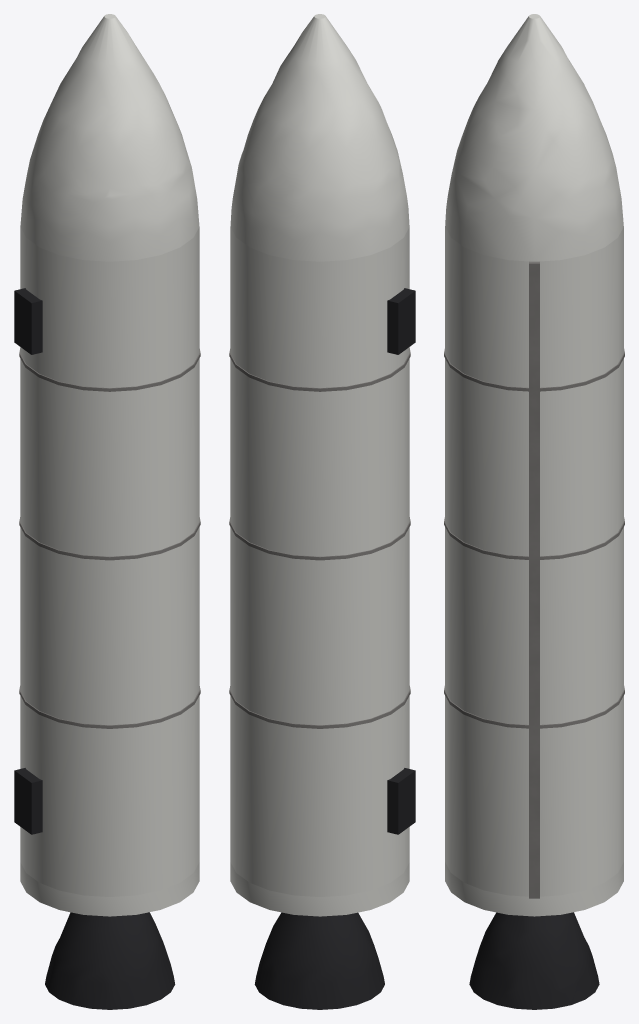
Rendered from prop05_srb_small.glb.
3 renders of one model, left to right at view 1: azimuth 30°, elevation 25°; view 2: azimuth 150°, elevation 25°; view 3: azimuth 270°, elevation 25°, orthographic.
Parts seen in each view (by area): view 1: casing, nose_cone, nozzle, aft_skirt, attach_fittings, joint_bands; view 2: casing, nose_cone, nozzle, aft_skirt, attach_fittings, joint_bands; view 3: casing, nose_cone, nozzle, systems_tunnel, aft_skirt, joint_bands.
Part boxes in pixels (x1,y1,x2,y2): casing: (20, 227, 199, 896); nose_cone: (20, 14, 199, 261); nozzle: (45, 912, 175, 1009); aft_skirt: (20, 862, 199, 916); attach_fittings: (14, 288, 42, 834); joint_bands: (19, 348, 200, 728); casing: (230, 227, 409, 896); nose_cone: (230, 14, 409, 261); nozzle: (254, 912, 384, 1009); aft_skirt: (230, 862, 409, 916); attach_fittings: (387, 288, 415, 834); joint_bands: (229, 348, 410, 728); casing: (445, 227, 623, 896); nose_cone: (445, 14, 623, 261); nozzle: (469, 912, 599, 1009); systems_tunnel: (529, 261, 539, 898); aft_skirt: (445, 862, 623, 916); joint_bands: (444, 349, 624, 728).
Bounding box in the file's own units: 1.36 × 7.45 × 1.26.
3 materials, 1 textured.
